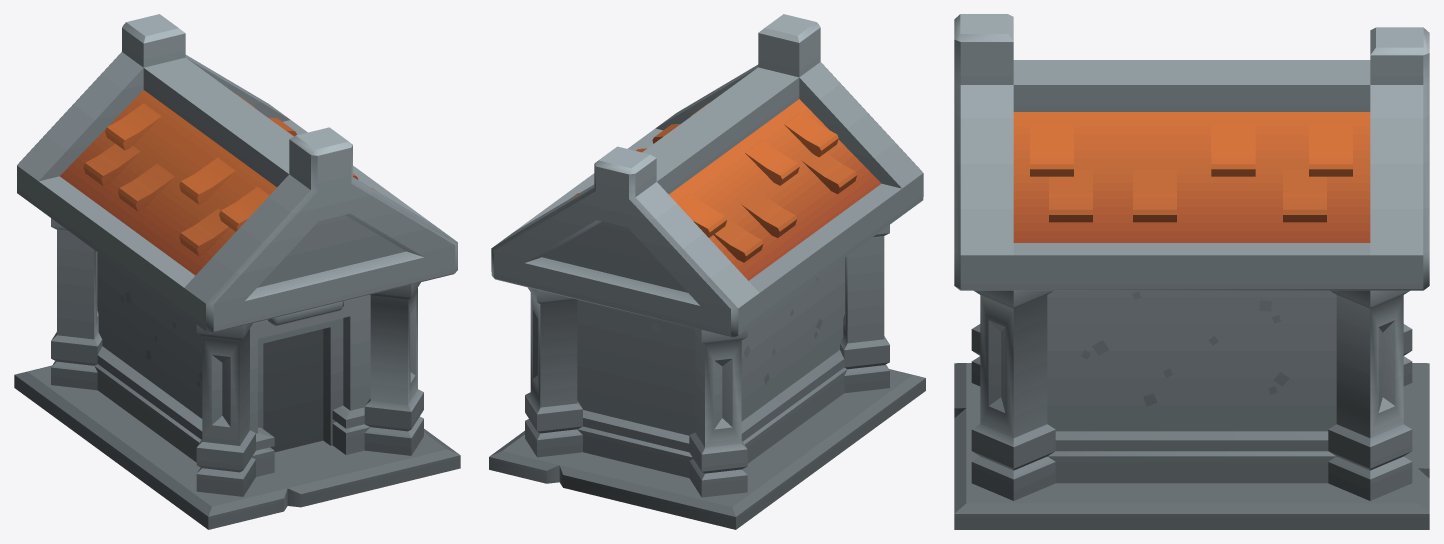
Rendered from hb_crypt.glb.
3 views of the same model, side by side, from view 1: azimuth 30°, elevation 25°; view 2: azimuth 150°, elevation 25°; view 3: azimuth 270°, elevation 25° (orthographic). The views are drawn at different scales.
Parts seen in each view (by area): view 1: crypt; view 2: crypt; view 3: crypt.
Boxes of the visible parts, x1=… form: crypt: x1=14, y1=14, x2=460, y2=529; crypt: x1=489, y1=14, x2=925, y2=529; crypt: x1=954, y1=14, x2=1429, y2=529.
Bounding box in the file's own units: 2.7 × 3.6 × 3.6.
1 material, 1 textured.
